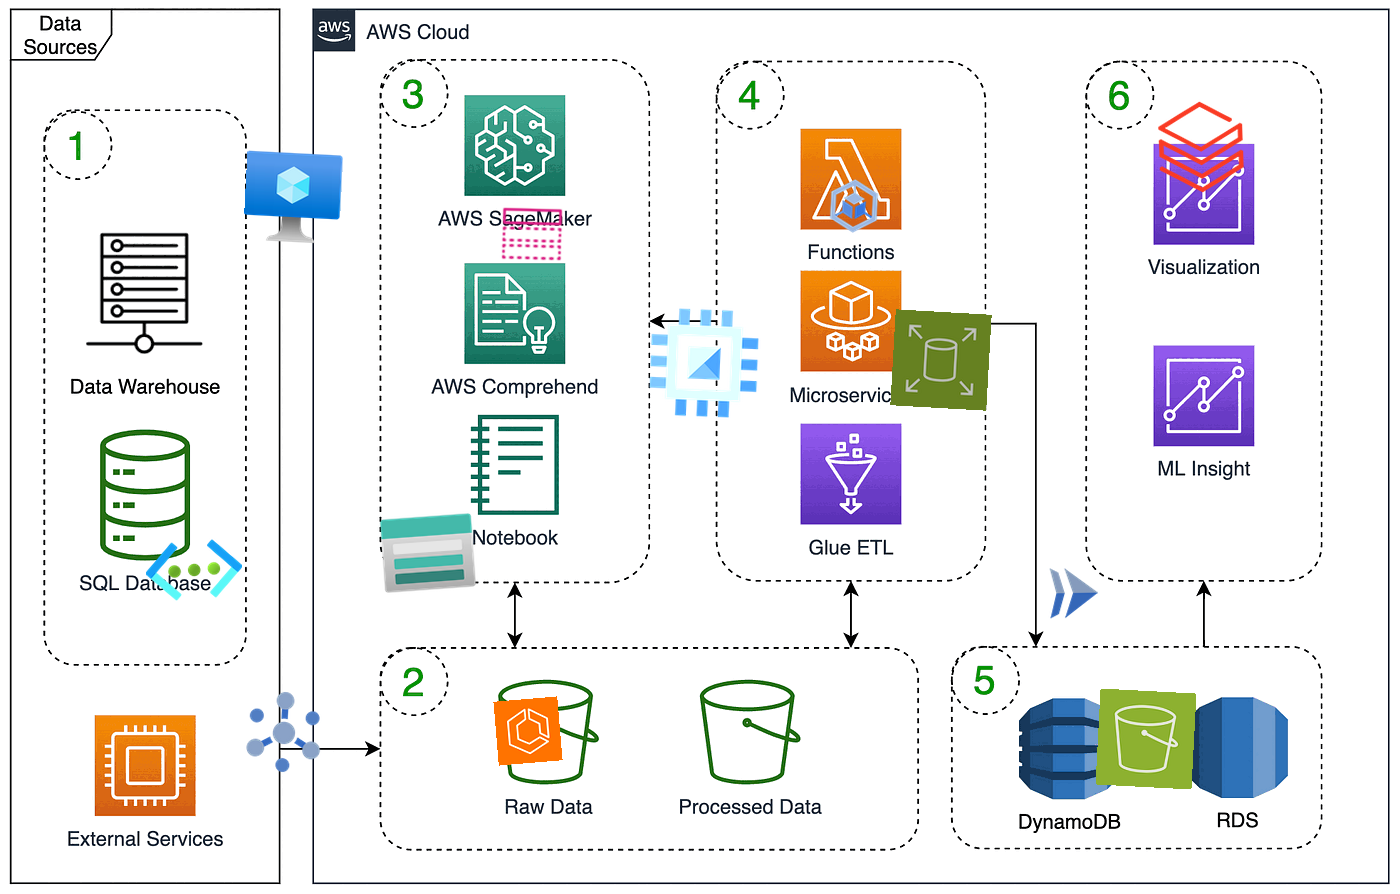aws_amazon_elastic_block_store: (890, 309, 992, 411)
aws_amazon_elastic_container_service: (493, 696, 563, 766)
aws_amazon_simple_storage_service: (1095, 688, 1197, 790)
aws_simple_notification_service_topic: (499, 201, 565, 267)
azure_databricks: (1151, 97, 1251, 197)
azure_storage_accounts: (376, 501, 480, 605)
azure_virtual_machine: (242, 149, 344, 251)
azure_virtual_networks: (142, 518, 246, 622)
gcp_cloud_run: (1040, 560, 1106, 626)
gcp_compute_engine: (637, 296, 771, 430)
gcp_google_kubernetes_engine: (820, 172, 888, 240)
gcp_pubsub: (233, 681, 335, 783)
